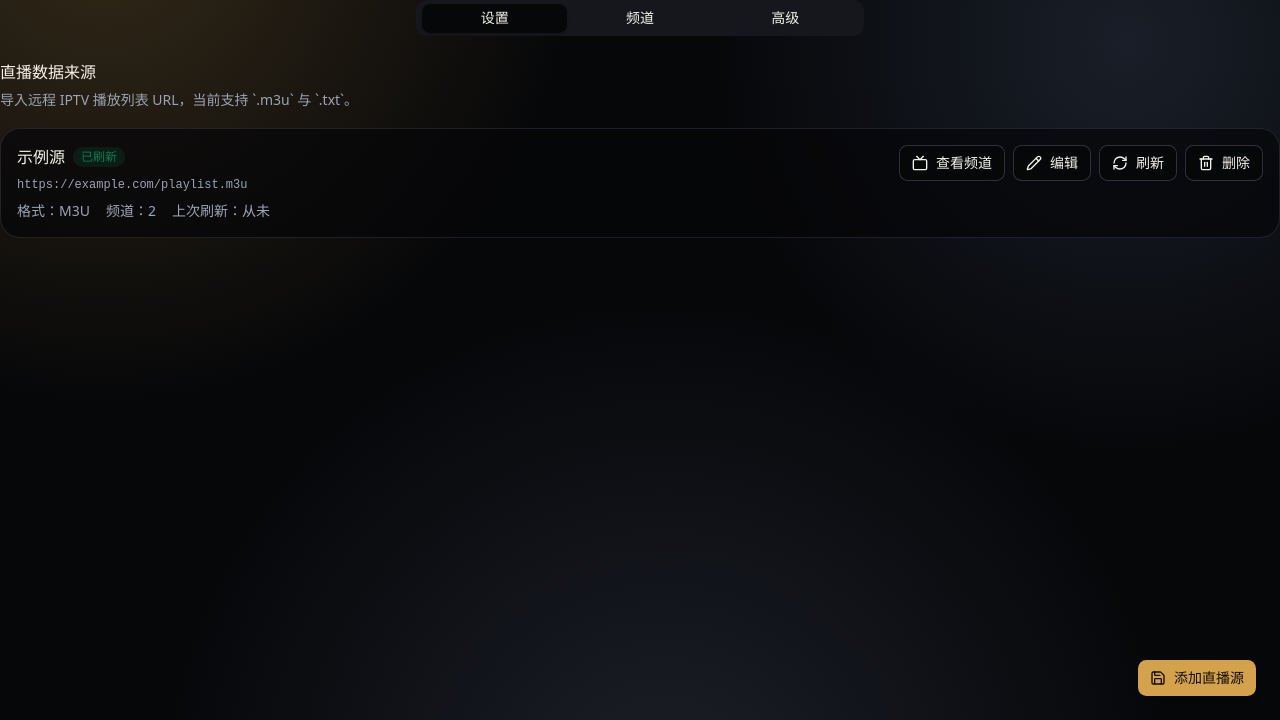
Test case: LiveTvSettingsPanel › loads source data into the form when editing an existing source
This screenshot has width=1280, height=720.
Click the button "编辑" at x=1052, y=163, box [1013,145,1091,181]
(page scrolled)
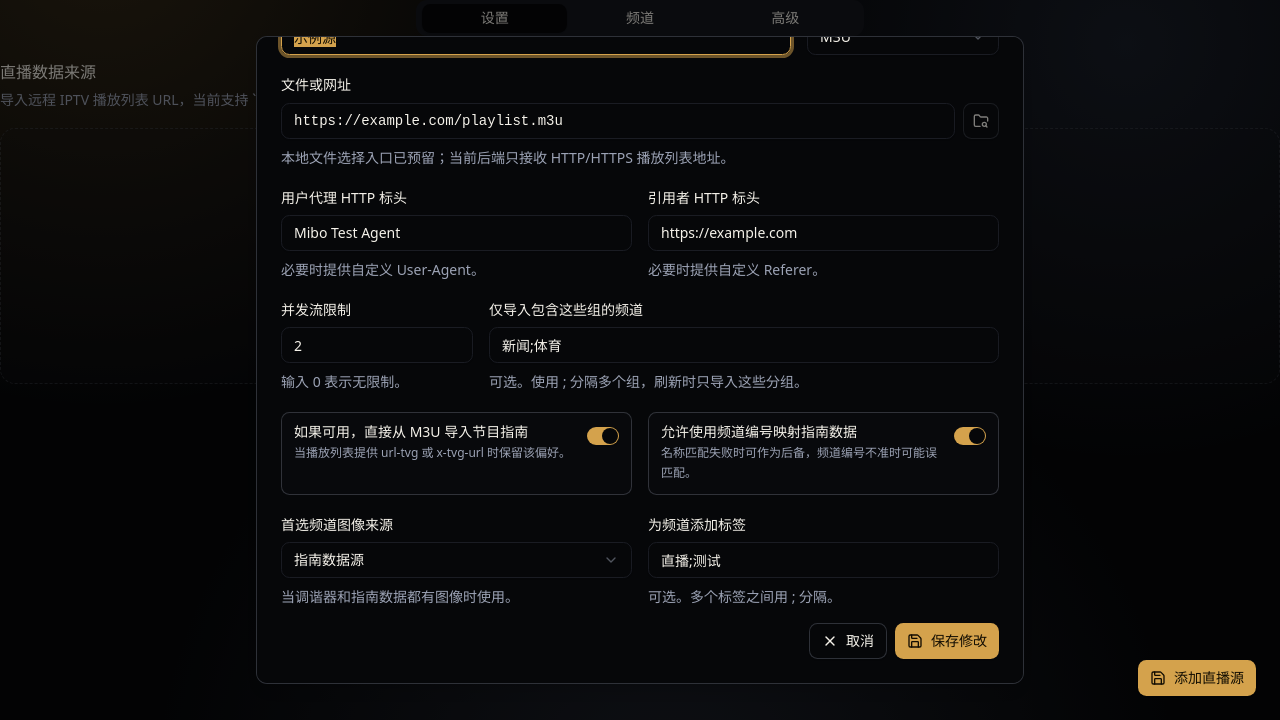
Expected: the field labelled "文件或网址" holds "https://example.com/playlist.m3u", [281,102,955,138]
Expected: the field labelled "用户代理 HTTP 标头" holds "Mibo Test Agent", [281,215,632,251]
Expected: the field labelled "引用者 HTTP 标头" holds "https://example.com", [648,215,999,251]
